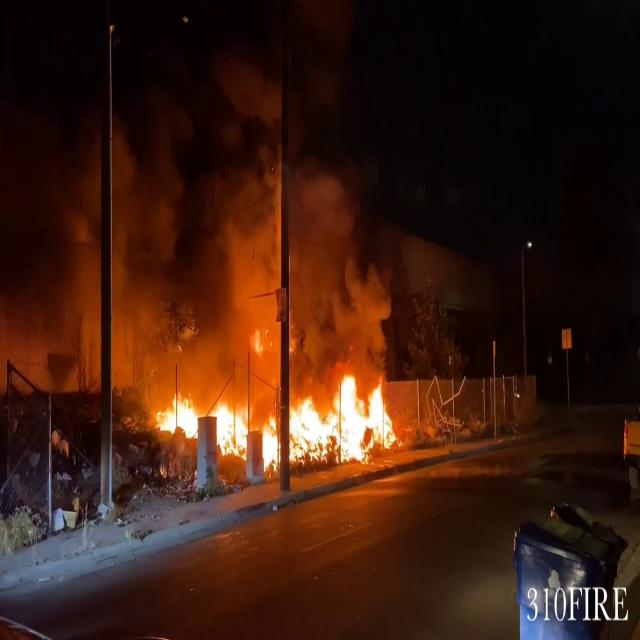Fire: (148, 370, 401, 471)
Smoke: (1, 58, 402, 384)
